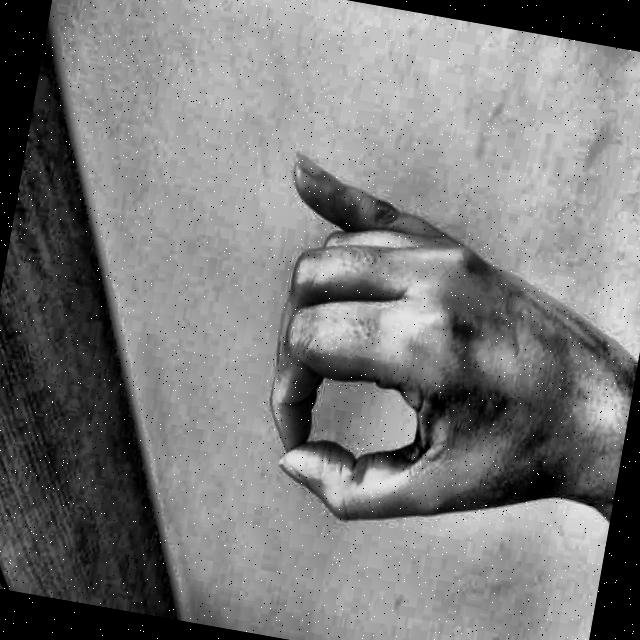Ou: (198, 116, 637, 604)
